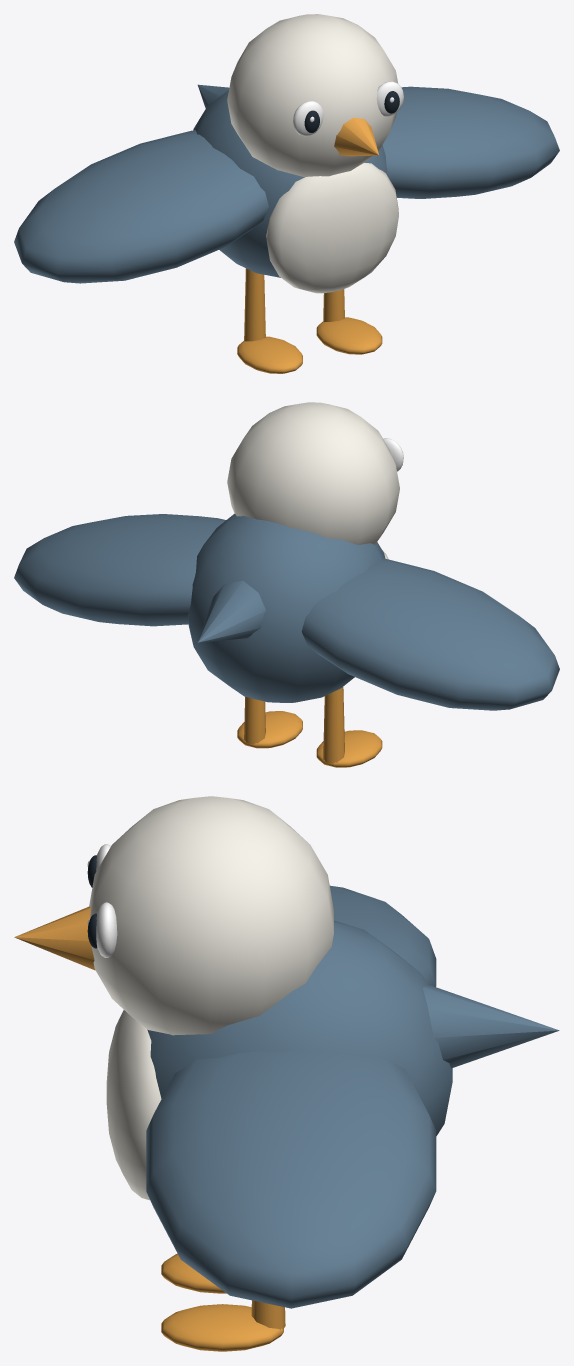
The picture shows the model from 3 angles, top to bottom: view 1: azimuth 30°, elevation 25°; view 2: azimuth 150°, elevation 25°; view 3: azimuth 270°, elevation 25°; orthographic projection. The views are drawn at different scales.
Visible parts, largest first — view 1: creature_1003; view 2: creature_1003; view 3: creature_1003.
Boxes of the visible parts, bbox=[...] form: creature_1003: bbox=[14, 14, 559, 373]; creature_1003: bbox=[14, 402, 559, 767]; creature_1003: bbox=[14, 796, 559, 1351].
Size of the model in its own units: 1.61 by 0.975 by 0.955.
